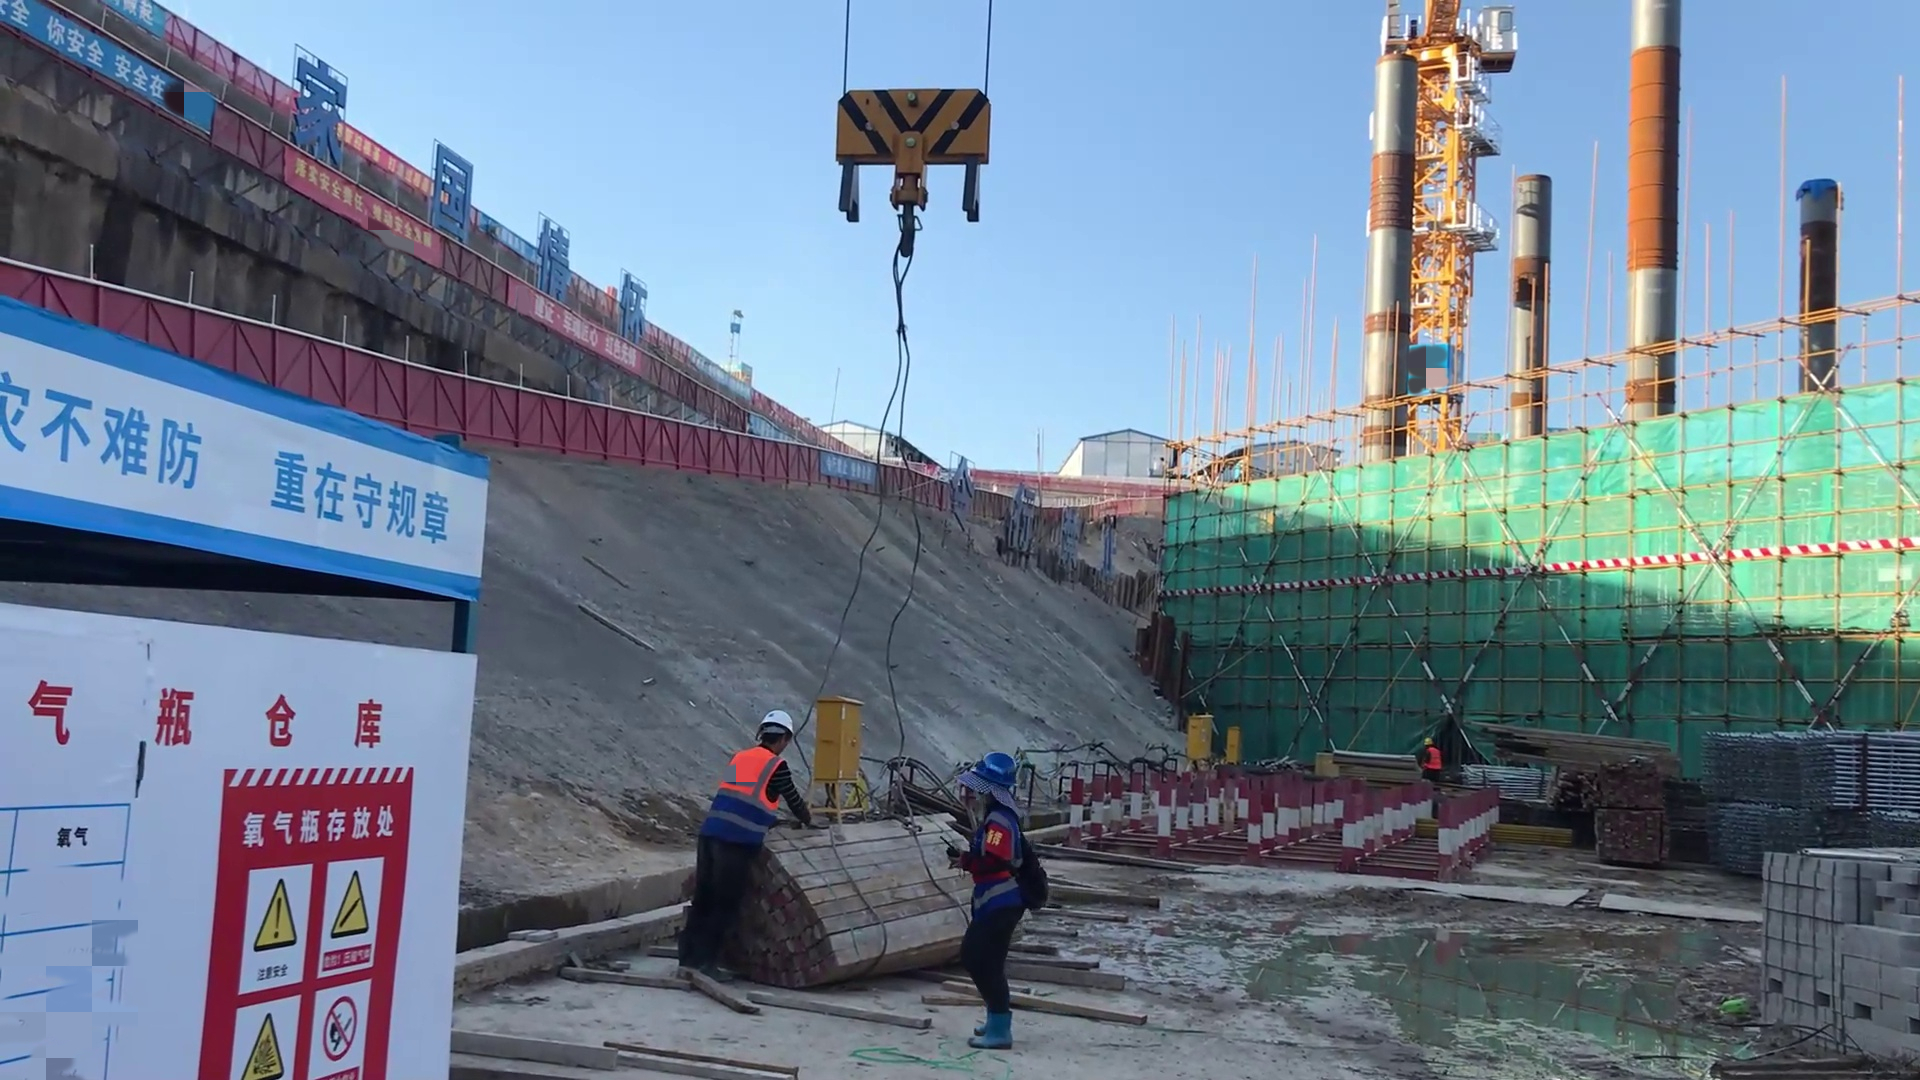brick: (1748, 846, 1920, 1060)
ebox: (814, 679, 873, 785), (1182, 708, 1211, 761), (1224, 722, 1246, 764)
fence: (477, 383, 799, 483), (261, 352, 491, 419)
helmet: (742, 690, 815, 762), (962, 748, 1010, 790)
hook: (834, 83, 991, 224)
person: (682, 690, 812, 985), (931, 743, 1042, 1049), (1416, 738, 1449, 787)
scaffold: (1708, 723, 1904, 822)
slogan: (1, 376, 454, 572), (216, 772, 419, 1080), (259, 131, 473, 297), (12, 1, 177, 101)
vest: (719, 747, 788, 813)
wood: (796, 808, 938, 1002), (1495, 715, 1655, 798)
